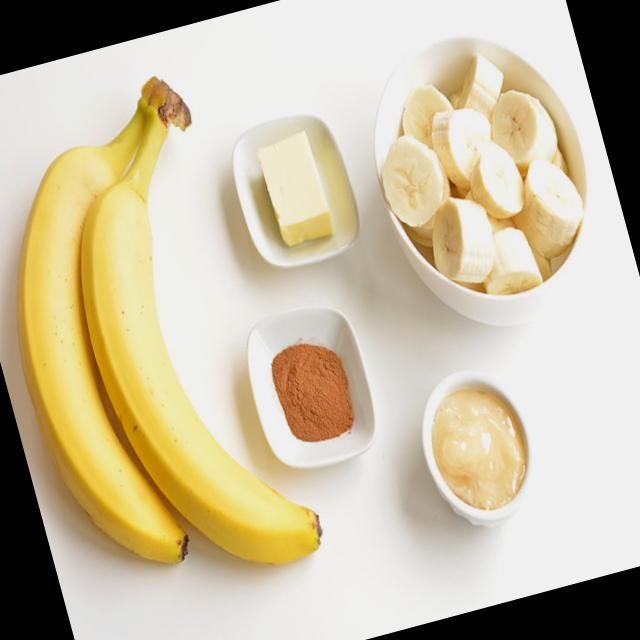banana: (58, 162, 336, 600), (0, 124, 206, 609)
